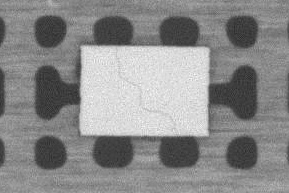DIE_CRACK: (114, 48, 176, 127)
